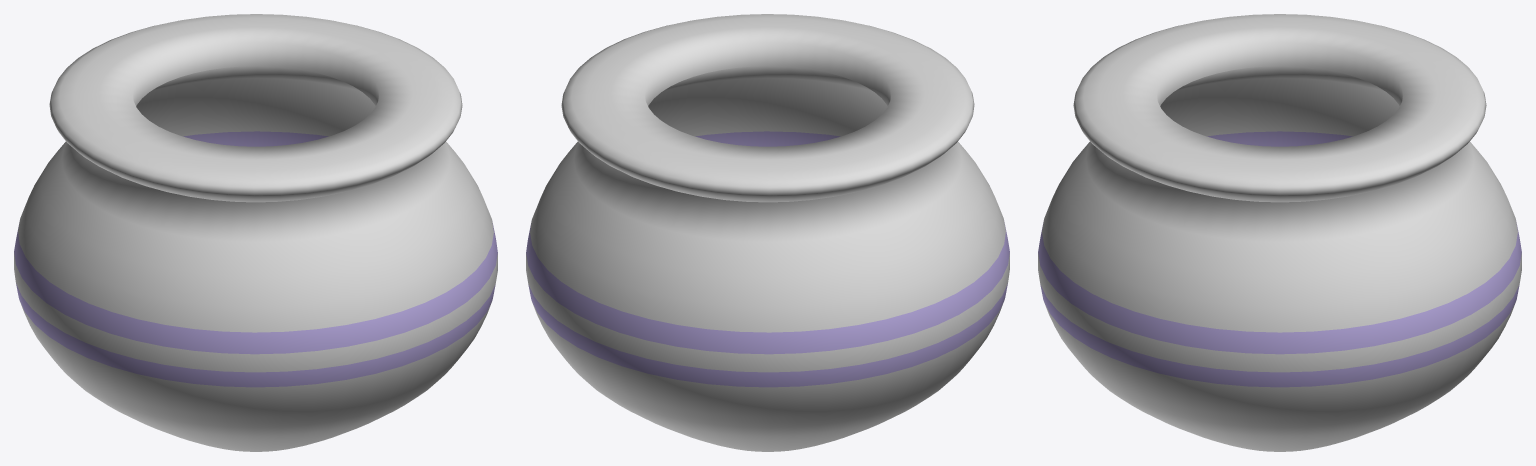
The model's file is pot.fbx.
3 views of the same model, side by side, from view 1: azimuth 30°, elevation 25°; view 2: azimuth 150°, elevation 25°; view 3: azimuth 270°, elevation 25° (orthographic).
Parts seen in each view (by area): view 1: Pot; view 2: Pot; view 3: Pot.
Part boxes in pixels (x1,y1,x2,y2): Pot: (14, 14, 497, 451); Pot: (526, 14, 1009, 451); Pot: (1038, 14, 1521, 451).
Bounding box in the file's own units: 757 × 574 × 757.
